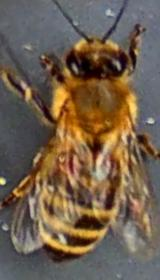varroa_mite: (52, 146, 83, 177)
